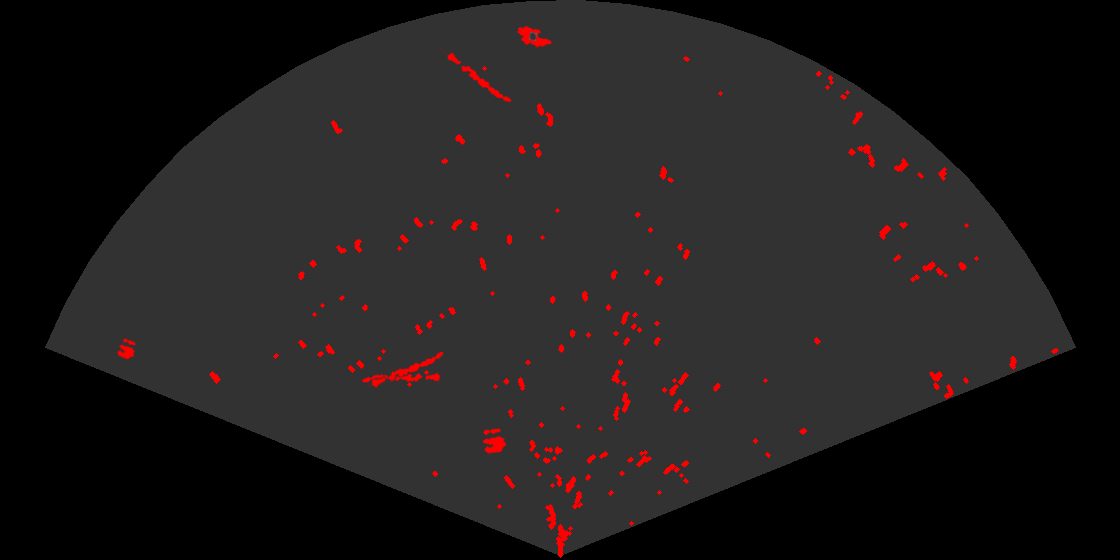AUV: (515, 24, 554, 49)
ball: (481, 427, 508, 455), (116, 336, 138, 361)
chain: (436, 47, 513, 104), (368, 350, 445, 389), (360, 371, 440, 384)
